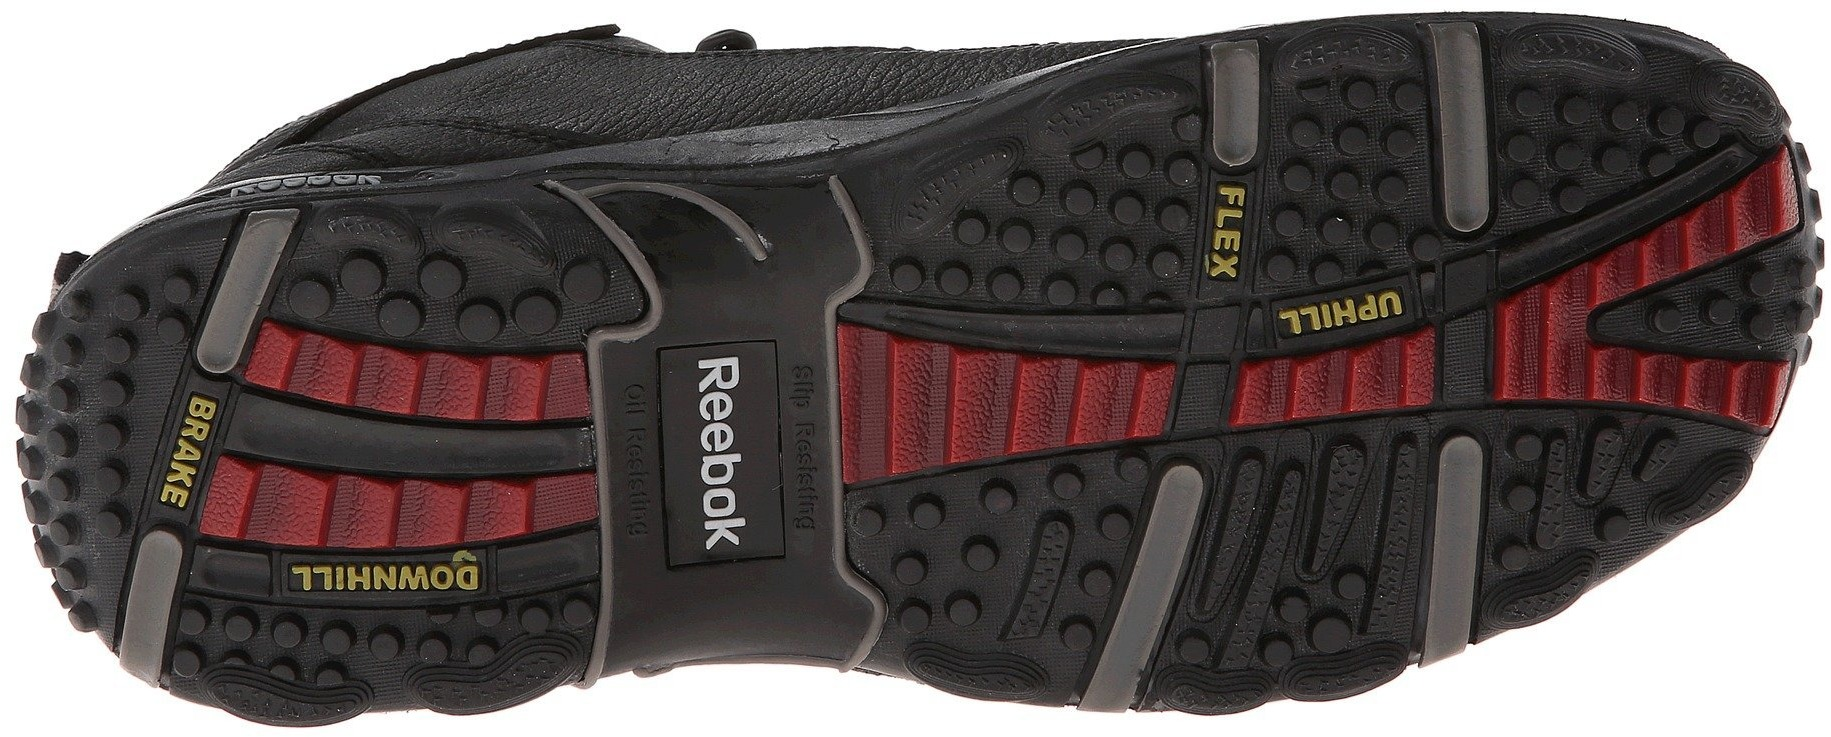chevron: (1483, 227, 1680, 418)
circle: (265, 389, 502, 606), (1000, 153, 1182, 298), (1275, 135, 1423, 272), (875, 492, 1008, 616), (25, 328, 153, 453), (341, 232, 467, 354), (1510, 86, 1639, 199), (1270, 575, 1362, 666), (220, 604, 312, 687)
line: (265, 389, 502, 606), (1205, 419, 1377, 582)
quad: (265, 389, 502, 606), (1483, 227, 1680, 418), (1005, 317, 1178, 487), (873, 338, 1009, 473)
ribbon: (314, 370, 472, 512)
text: (265, 389, 502, 606), (662, 381, 761, 489), (678, 500, 750, 568), (166, 395, 231, 467), (1352, 277, 1412, 335), (1199, 204, 1260, 257), (388, 554, 436, 604)
